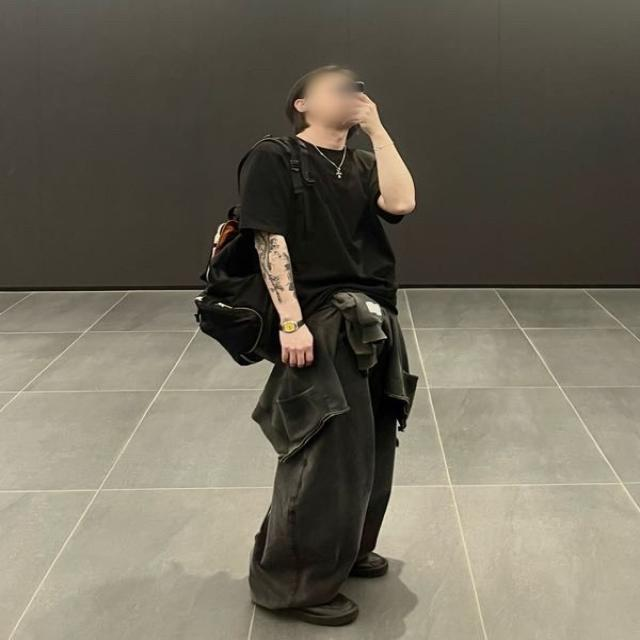denimpants: (251, 294, 410, 608)
shortsleeve: (236, 134, 404, 310)
